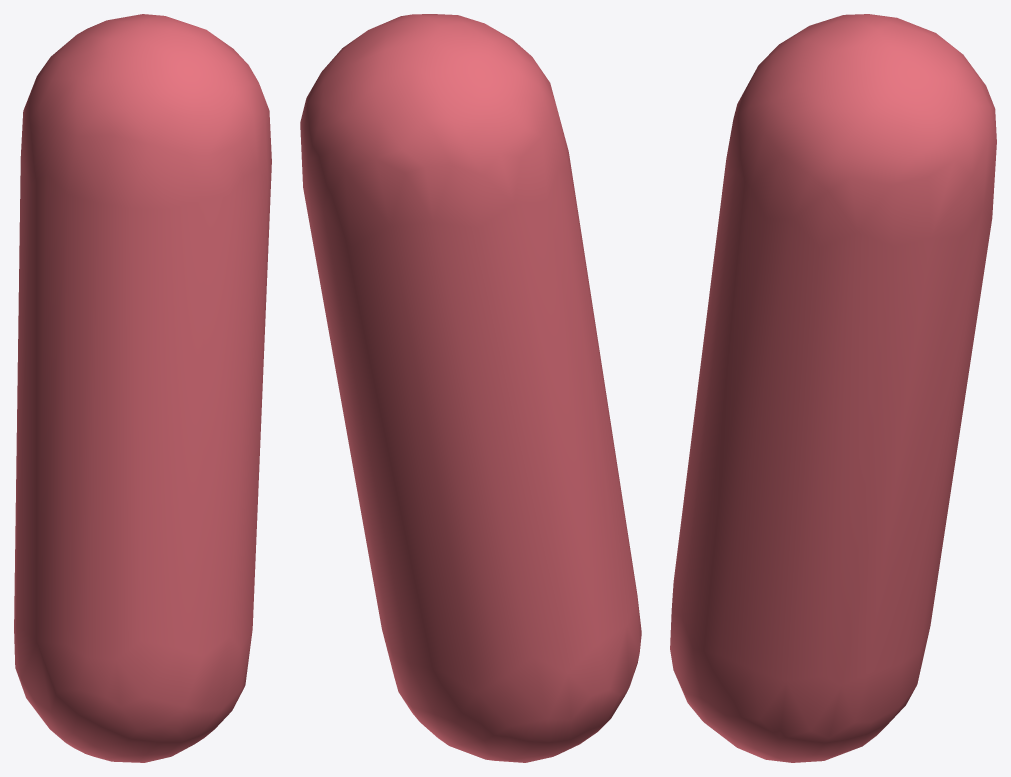
Rendered from fma66563_fj2304.glb.
The picture shows the model from 3 angles, left to right: view 1: azimuth 30°, elevation 25°; view 2: azimuth 150°, elevation 25°; view 3: azimuth 270°, elevation 25°; orthographic projection. The views are drawn at different scales.
Visible parts, largest first — view 1: FMA66563_FJ2304; view 2: FMA66563_FJ2304; view 3: FMA66563_FJ2304.
Boxes of the visible parts, left/top/right/bottom form: FMA66563_FJ2304: left=14, top=14, right=271, bottom=762; FMA66563_FJ2304: left=300, top=14, right=641, bottom=762; FMA66563_FJ2304: left=670, top=14, right=996, bottom=762.
Size of the model in its own units: 0.00481 by 0.0126 by 0.00498.
